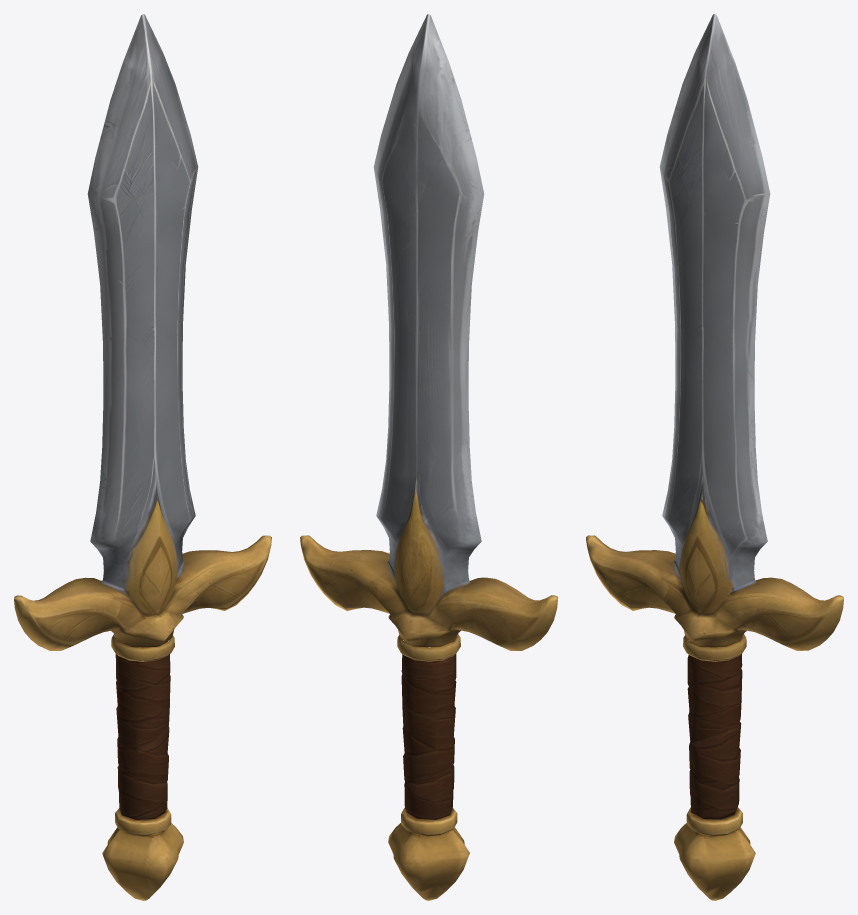
The model's file is elf-fighter-sword-p2-quad-textured-v1.glb.
The picture shows the model from 3 angles, left to right: view 1: azimuth 30°, elevation 25°; view 2: azimuth 150°, elevation 25°; view 3: azimuth 330°, elevation 25°; orthographic projection.
Parts seen in each view (by area): view 1: ec665e87_866c_4649_b213_3e315625a83d; view 2: ec665e87_866c_4649_b213_3e315625a83d; view 3: ec665e87_866c_4649_b213_3e315625a83d.
Part boxes in pixels (left/top/right/bottom): ec665e87_866c_4649_b213_3e315625a83d: left=14, top=14, right=271, bottom=900; ec665e87_866c_4649_b213_3e315625a83d: left=300, top=14, right=557, bottom=900; ec665e87_866c_4649_b213_3e315625a83d: left=586, top=14, right=843, bottom=900.
Bounding box in the file's own units: 0.3042 × 0.9995 × 0.0972.
1 material, 1 textured.
